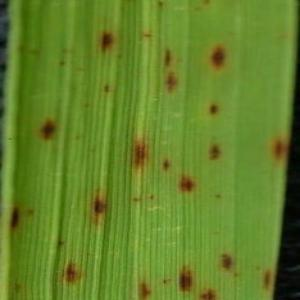Brown_Spot: (123, 137, 156, 178), (201, 37, 233, 77), (90, 24, 123, 60), (32, 111, 63, 149), (211, 246, 243, 281), (266, 129, 290, 172), (84, 188, 111, 226), (172, 260, 197, 298), (173, 166, 200, 199), (157, 68, 186, 98), (199, 134, 224, 167), (57, 259, 83, 286), (154, 41, 175, 71), (4, 203, 23, 233), (203, 96, 224, 122), (151, 153, 176, 174), (133, 279, 157, 300), (208, 186, 229, 208), (136, 27, 161, 45), (50, 235, 73, 254), (260, 266, 274, 293), (98, 78, 115, 100), (20, 202, 40, 220), (143, 186, 161, 205), (75, 99, 99, 113), (126, 191, 145, 208), (9, 276, 27, 293), (14, 40, 28, 57), (55, 55, 69, 71), (70, 132, 86, 146), (58, 45, 74, 59), (26, 44, 43, 57), (190, 3, 204, 15), (153, 1, 167, 10), (199, 1, 214, 8)
